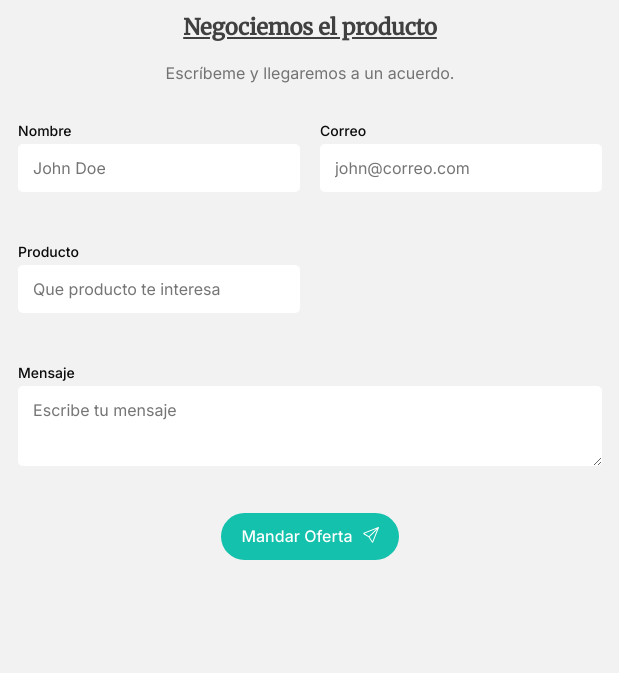
Test: Contacto - Pruebas Funcionales › muestra error cuando el nombre es inválido
The image size is (619, 673).
In the field labelled "Nombre": (159, 168) x1=18 y1=144 x2=300 y2=192, type "J"
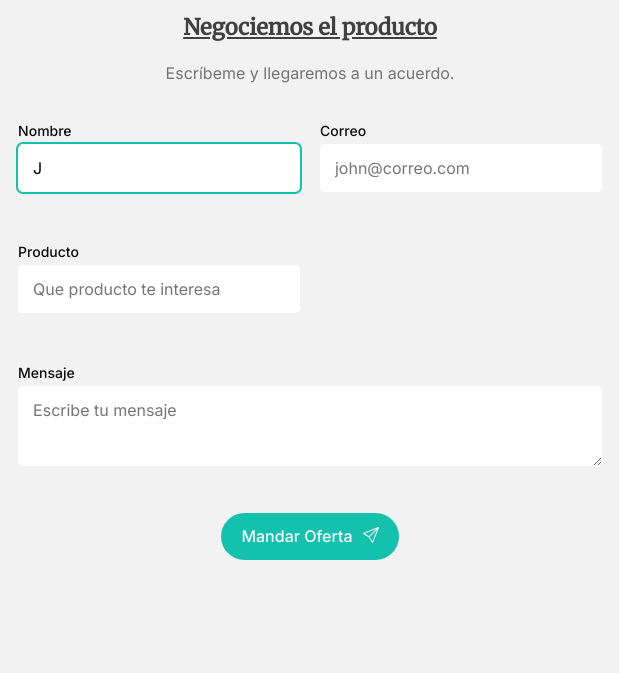
Click the button "Mandar Oferta": (310, 536) x1=221 y1=513 x2=398 y2=560
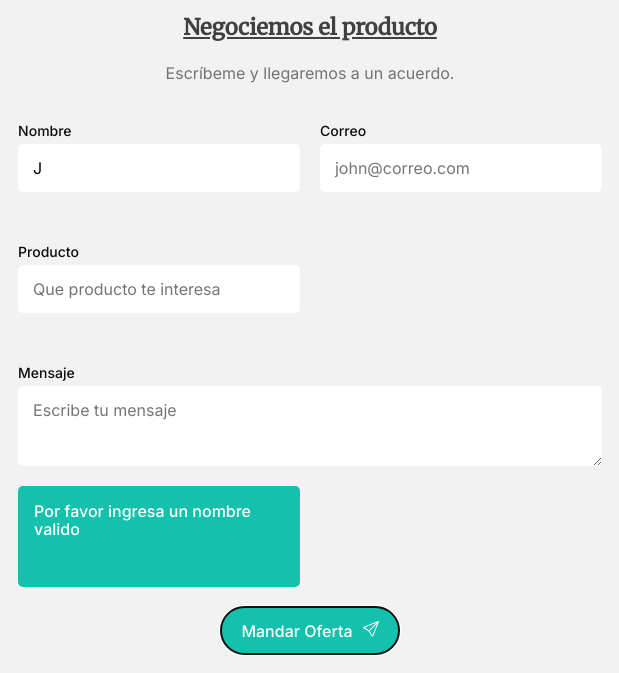
Result: the text "Por favor ingresa un nombre valido" is shown at x1=34 y1=502 x2=284 y2=539
